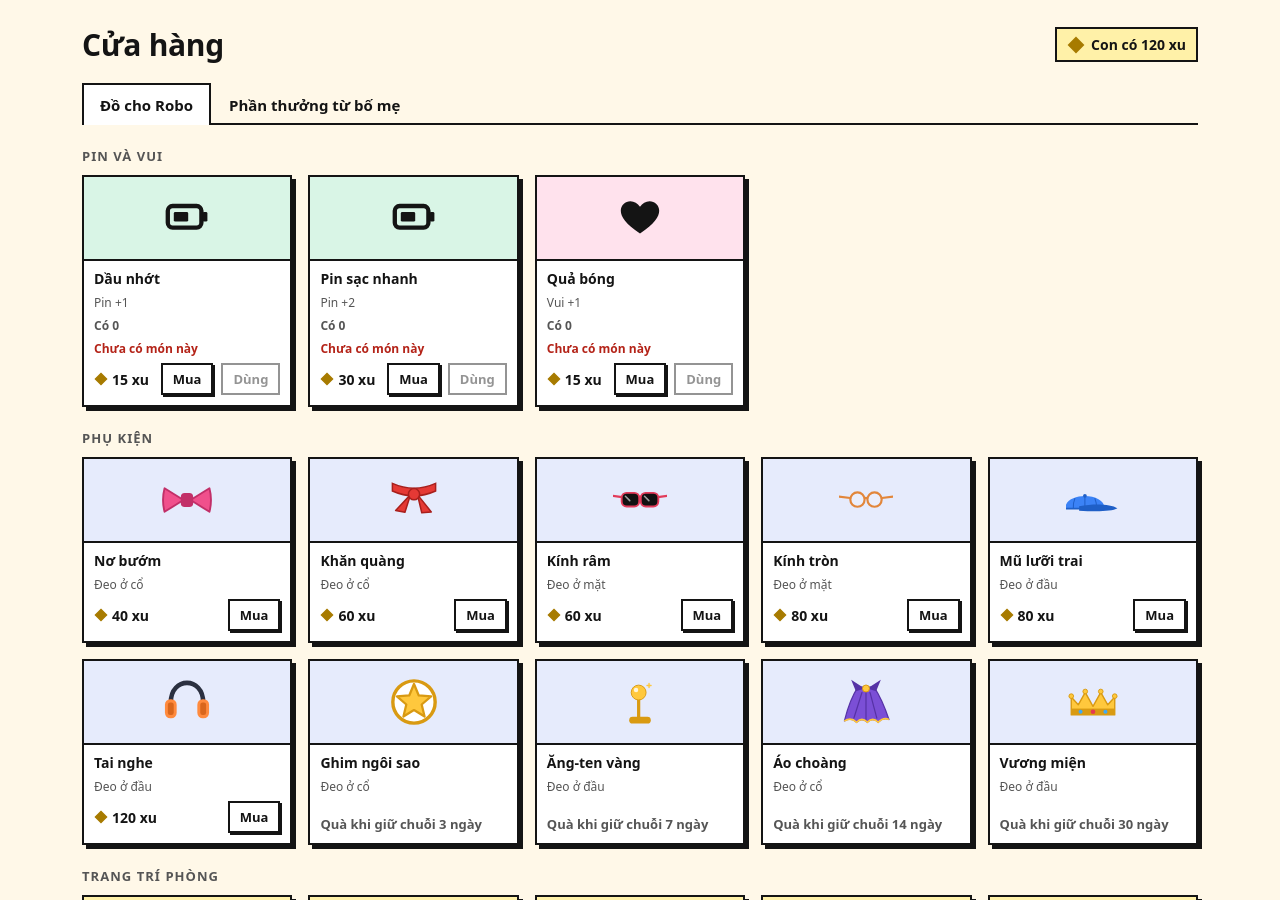
Test: ShopScreen: rewards from the parents › asks for a reward; the request waits for the parents
Click the tab "Phần thưởng từ bố mẹ" at (315, 104), box [211,83,418,125]
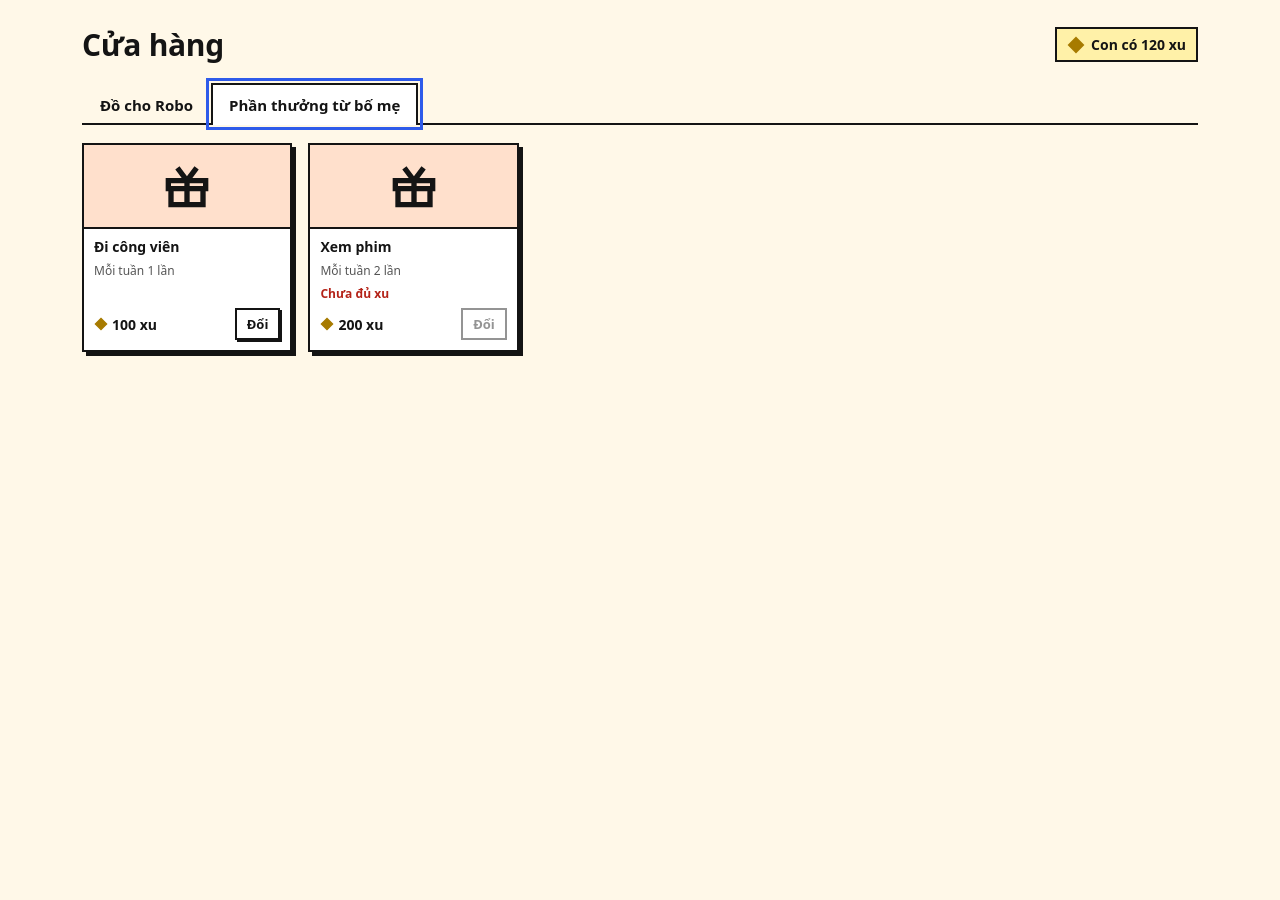
Expected: the text "Chưa đủ xu" is shown, [320,285,389,302]
Click the button with aria-label "Đổi Đi công viên" at (258, 324), box [235,308,280,340]
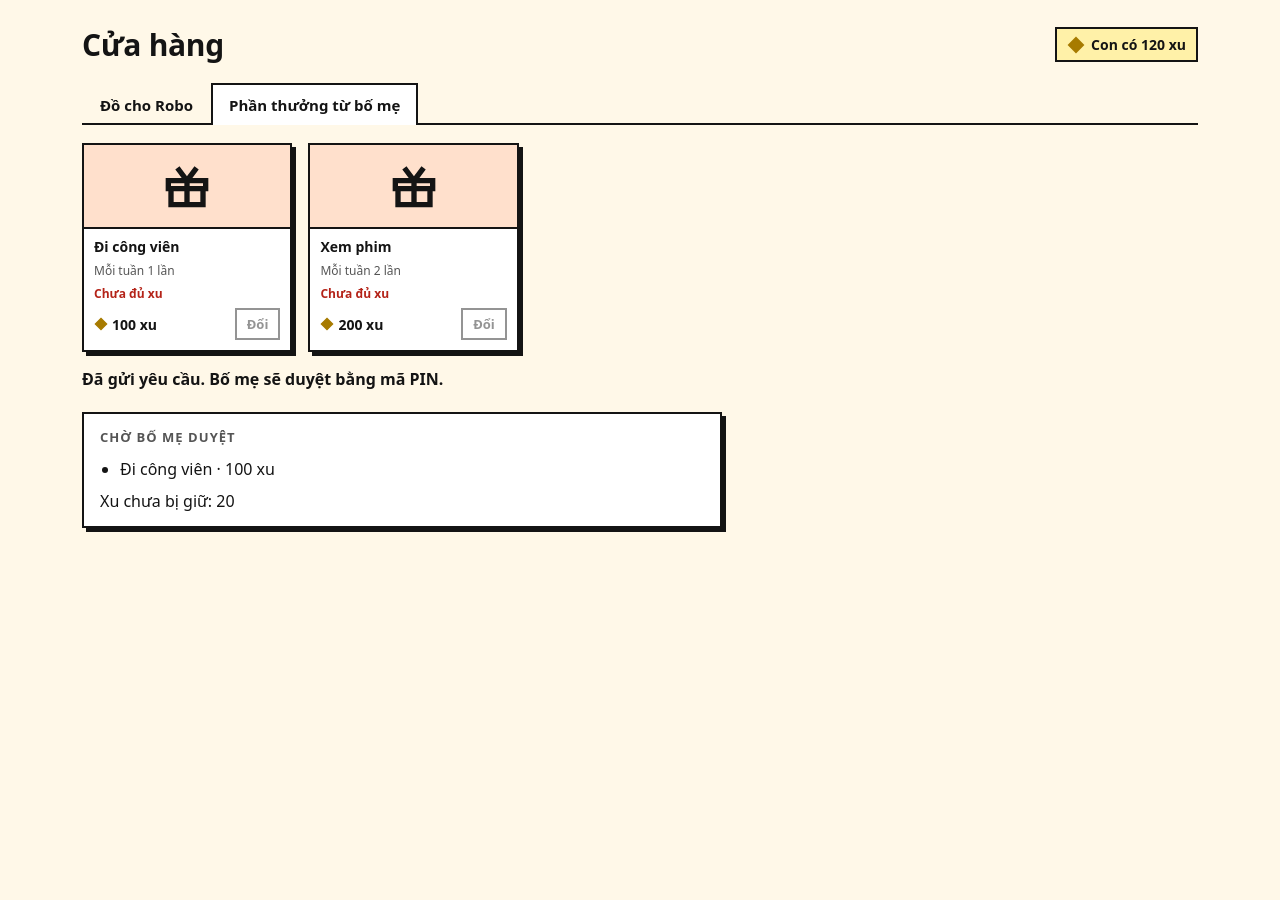
Expected: the message reads "Đã gửi yêu cầu. Bố mẹ sẽ duyệt bằng mã PIN.", [82,368,443,390]
Expected: the heading "Chờ bố mẹ duyệt" is shown, [100,428,236,446]
Expected: the button with aria-label "Đổi Đi công viên" is disabled, [235,308,280,340]
